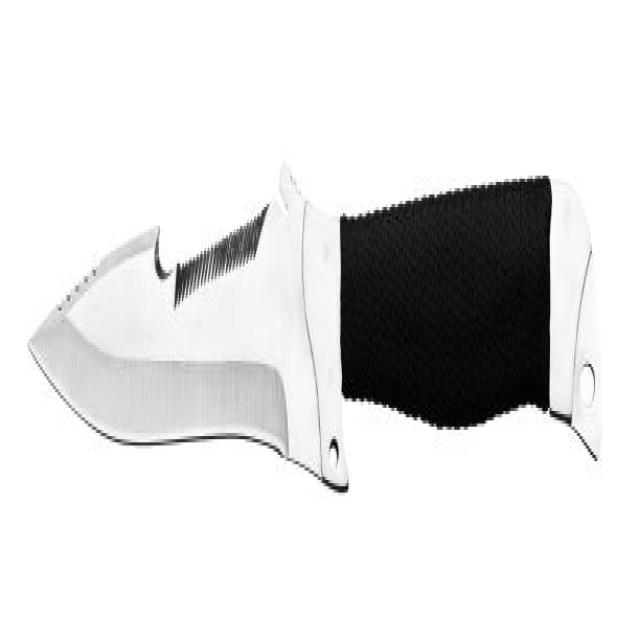knife: (28, 158, 607, 558)
